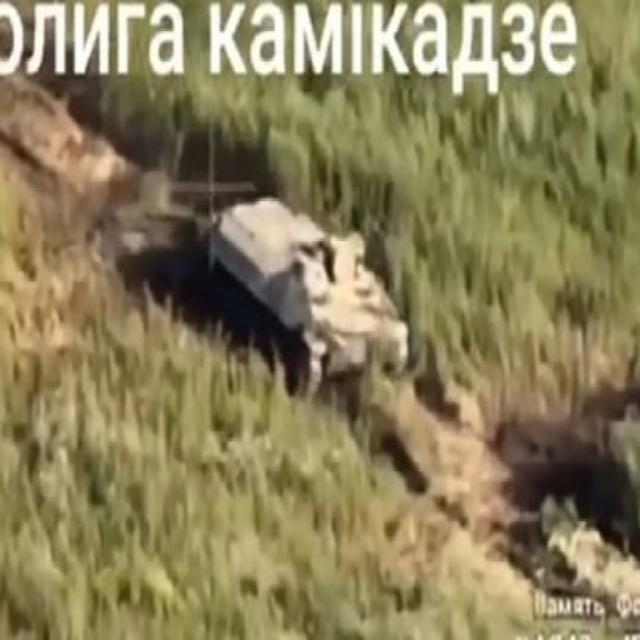APC-IFV: (200, 140, 416, 393)
